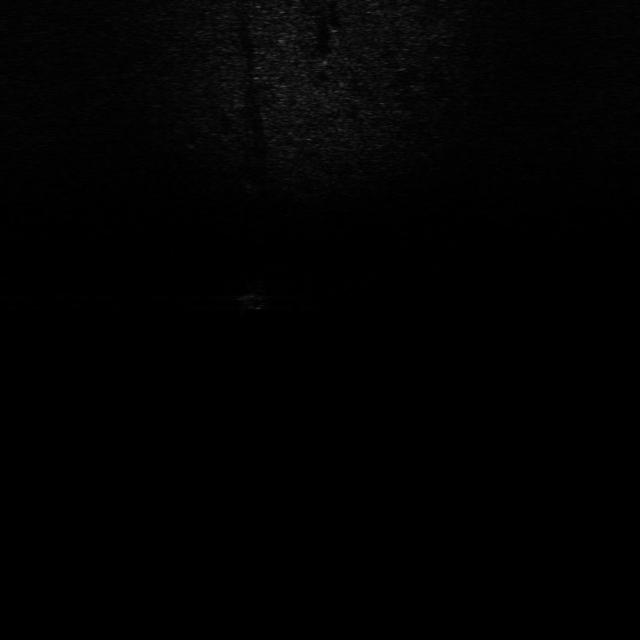human body: (237, 276, 273, 319)
